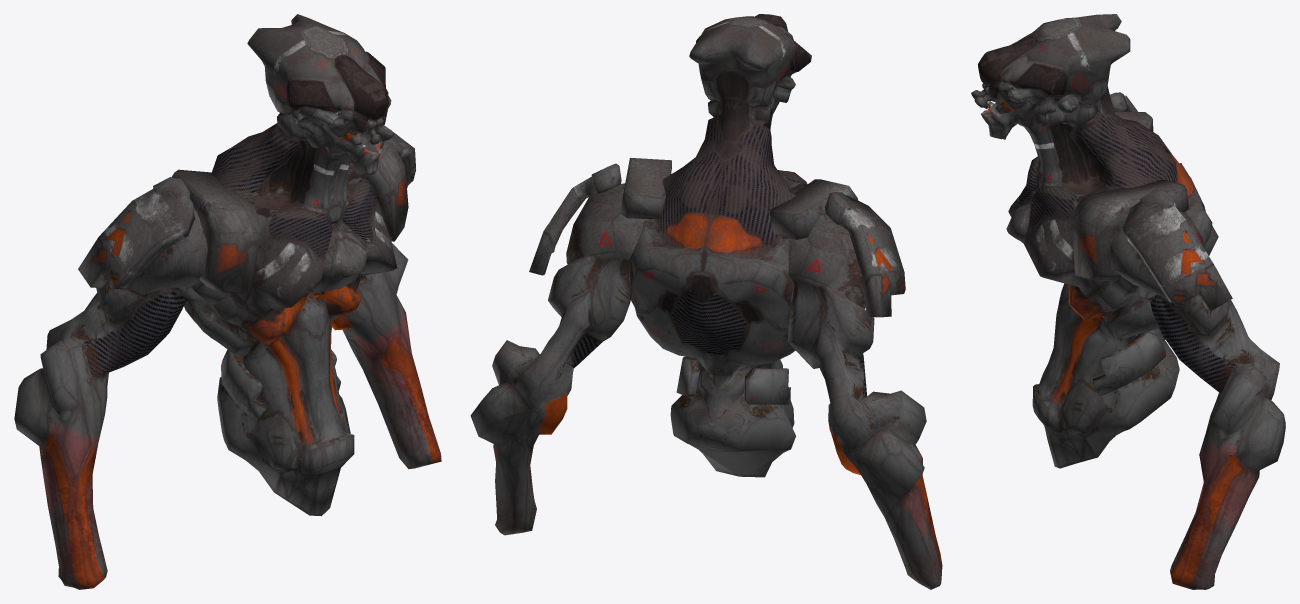
Rendered from Mech.obj.
3 views of the same model, side by side, from view 1: azimuth 30°, elevation 25°; view 2: azimuth 150°, elevation 25°; view 3: azimuth 270°, elevation 25° (orthographic). The views are drawn at different scales.
Visible parts, largest first — view 1: defaultMaterial_0, defaultMaterial_1; view 2: defaultMaterial_0, defaultMaterial_1; view 3: defaultMaterial_0, defaultMaterial_1.
Boxes of the visible parts, bbox=[...] form: defaultMaterial_0: bbox=[14, 14, 441, 589]; defaultMaterial_1: bbox=[40, 53, 419, 589]; defaultMaterial_0: bbox=[470, 14, 942, 589]; defaultMaterial_1: bbox=[495, 28, 935, 579]; defaultMaterial_0: bbox=[971, 14, 1285, 589]; defaultMaterial_1: bbox=[974, 28, 1271, 589].
Size of the model in its own units: 1.73 by 2.03 by 1.18.
